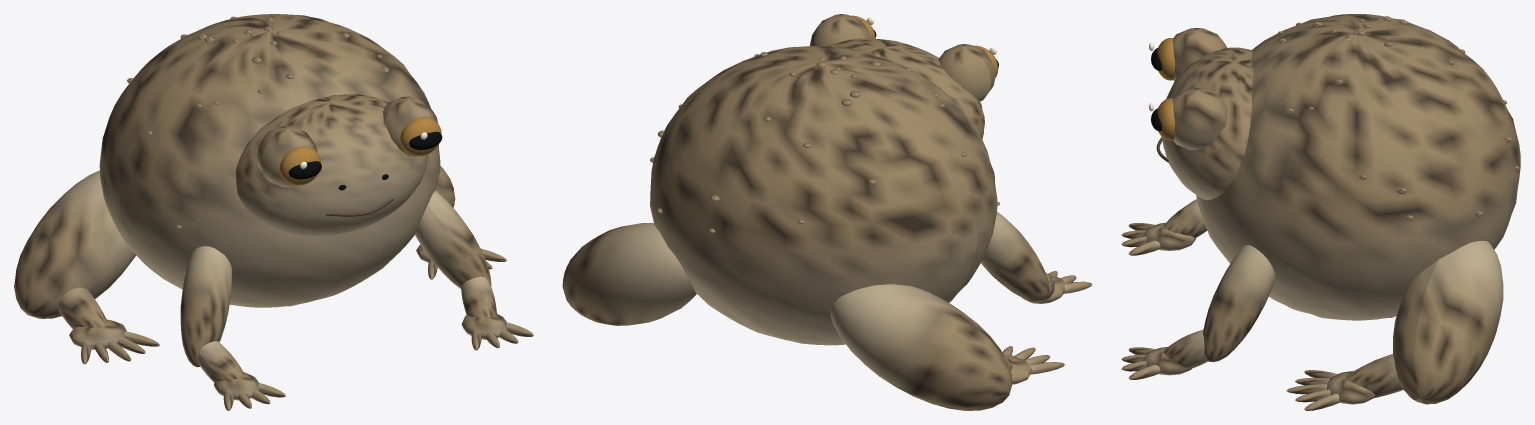
File: maeng-observation-prototype.glb
3 renders of one model, left to right at view 1: azimuth 30°, elevation 25°; view 2: azimuth 150°, elevation 25°; view 3: azimuth 270°, elevation 25°, orthographic. The views are drawn at different scales.
Visible parts, largest first — view 1: maeng-observation-study, eye--1, eye-1; view 2: maeng-observation-study; view 3: maeng-observation-study, eye--1, eye-1.
Boxes of the visible parts, x1,y1,x2,y2 form: maeng-observation-study: [14, 14, 533, 410]; eye--1: [279, 146, 321, 185]; eye-1: [400, 117, 442, 156]; maeng-observation-study: [562, 14, 1092, 410]; maeng-observation-study: [1121, 14, 1520, 410]; eye--1: [1149, 38, 1175, 80]; eye-1: [1149, 98, 1175, 140].
Bounding box in the file's own units: 2.44 × 1.48 × 1.9.
